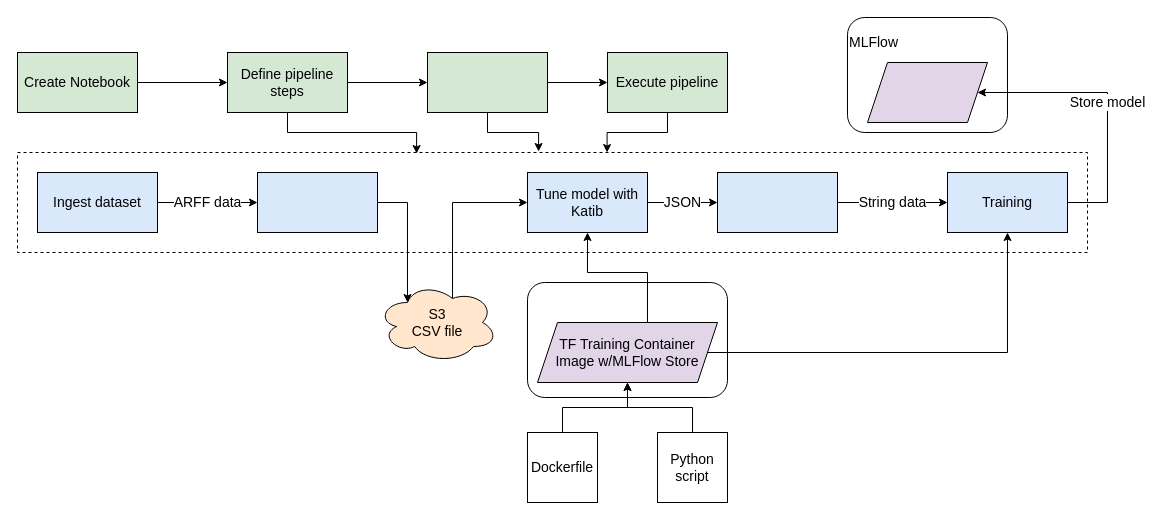
This 1162x520 diagram has some shape labels left out. The shapes that lost their labels are listed below. From the top down, each one's box as (x1, y1, x2, y2) in pixels, then its label:
(426, 52, 548, 112): Define pipeline
(866, 62, 988, 122): Production Model
(256, 172, 378, 232): Cleanup dataset
(716, 172, 838, 232): Convert Katib results
(526, 282, 728, 398): Docker.io
